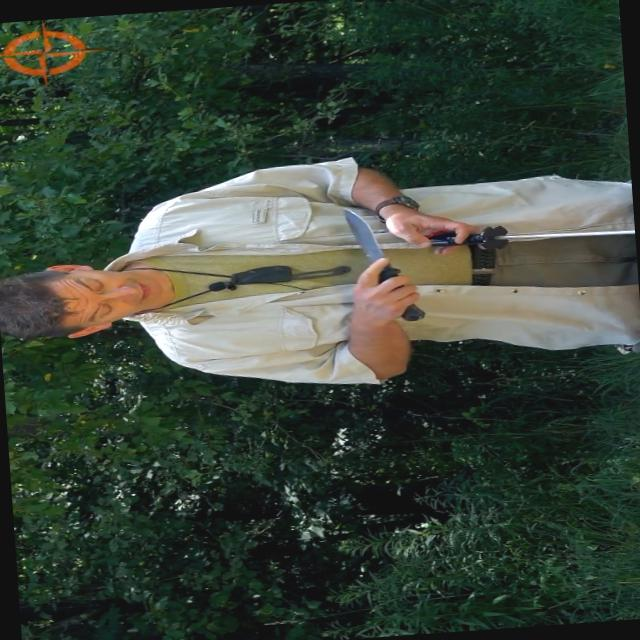knife: (336, 200, 430, 329)
